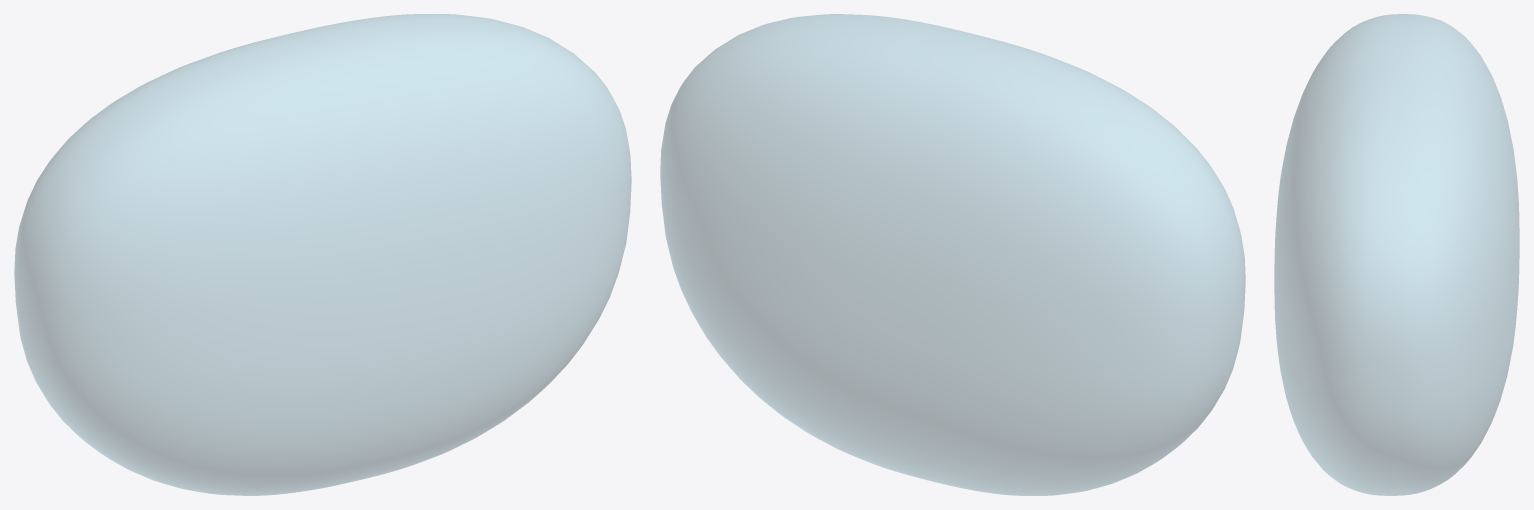
The picture shows the model from 3 angles, left to right: view 1: azimuth 30°, elevation 25°; view 2: azimuth 150°, elevation 25°; view 3: azimuth 270°, elevation 25°; orthographic projection. The views are drawn at different scales.
Parts seen in each view (by area): view 1: gel-body; view 2: gel-body; view 3: gel-body.
Boxes of the visible parts, x1,y1,x2,y2 form: gel-body: (14,14,631,495); gel-body: (660,14,1245,495); gel-body: (1274,14,1519,495).
Bounding box in the file's own units: 1.85 × 1.32 × 0.7638.
